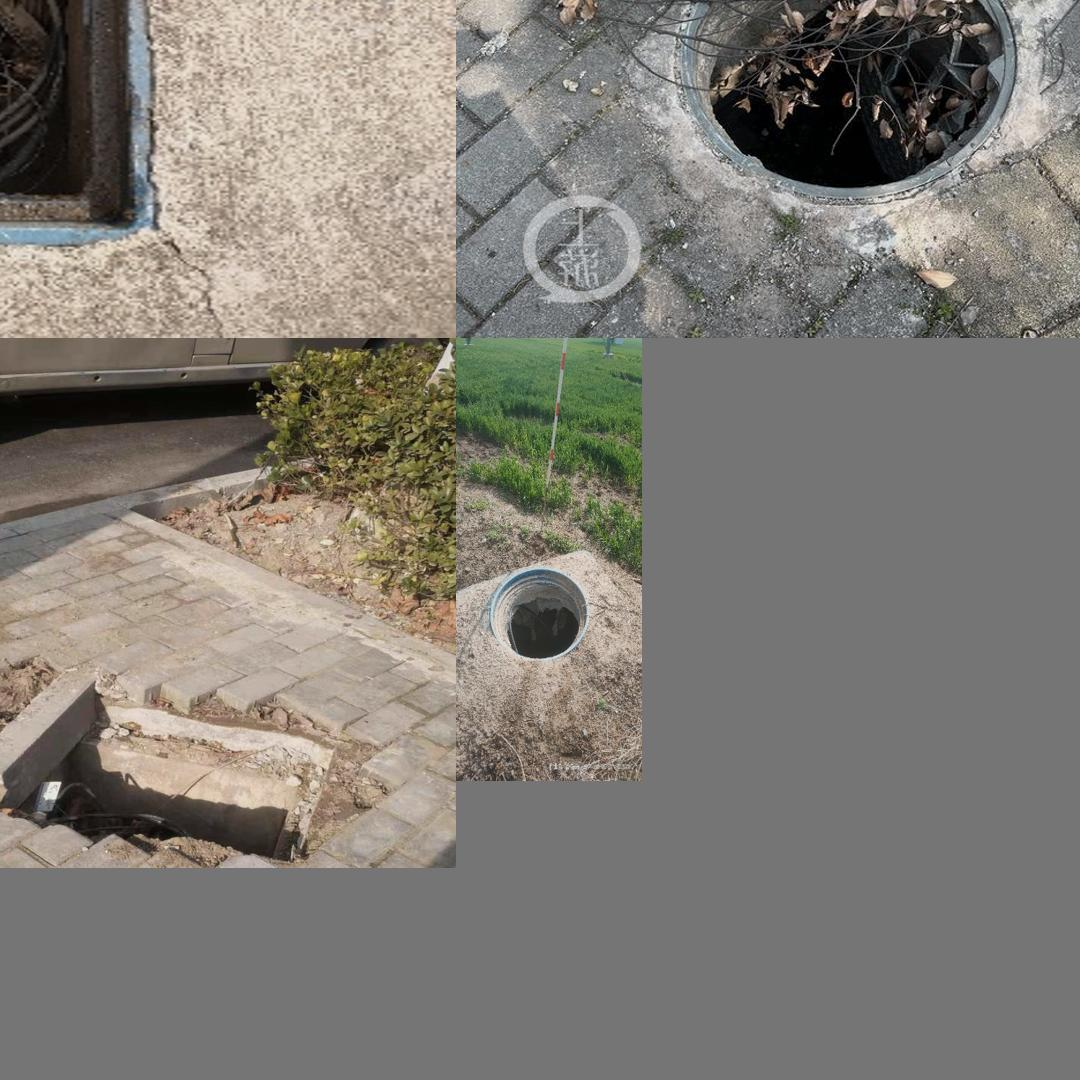lose: (676, 0, 1014, 204), (0, 697, 337, 868), (0, 0, 165, 244), (483, 566, 591, 662)
